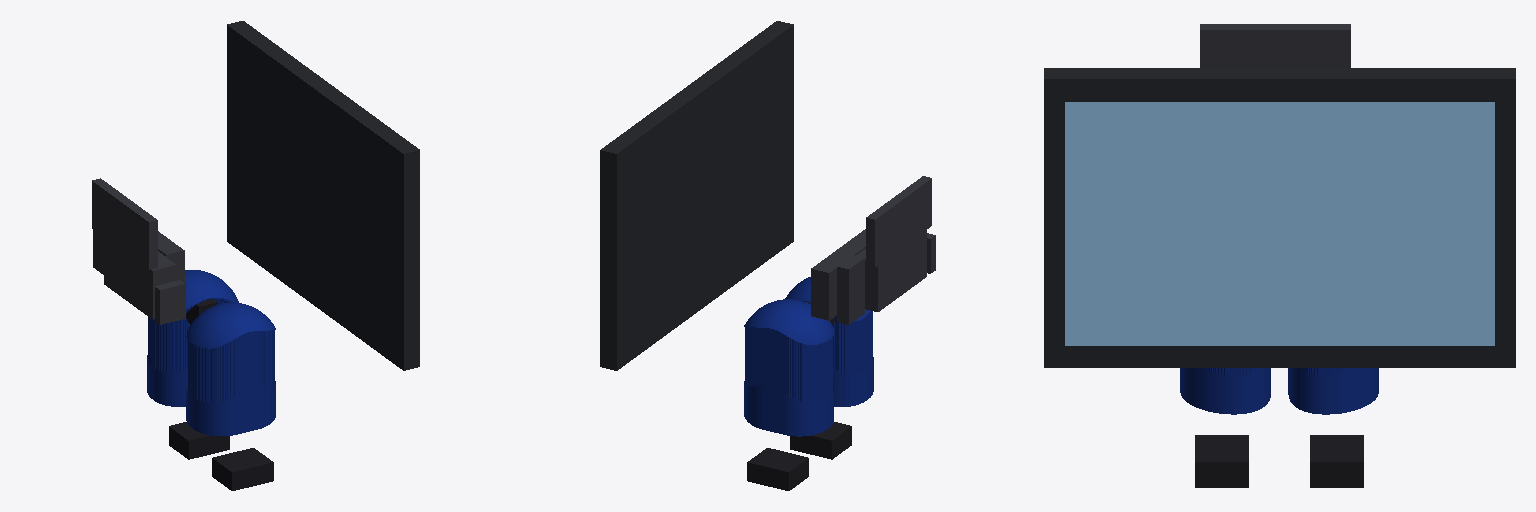
The robot description file, URDF, robot "haetburi":
<?xml version="1.0"?>
<!-- Haetburi biped (v21_sts3032_lite) - generated by tools/build_model.py, do not edit by hand -->
<robot name="haetburi">
  <mujoco>
    <compiler meshdir="." balanceinertia="true" discardvisual="false" strippath="false" fusestatic="false"/>
  </mujoco>
  <material name="display"><color rgba="0.18 0.19 0.21 1"/></material>
  <material name="screen"><color rgba="0.62 0.80 0.95 1"/></material>
  <material name="shell"><color rgba="0.106 0.216 0.541 1"/></material>
  <material name="motor"><color rgba="0.15 0.15 0.17 1"/></material>
  <material name="foot"><color rgba="0.25 0.25 0.28 1"/></material>
  <link name="world"/>
  <joint name="floating_base" type="floating">
    <parent link="world"/><child link="pelvis"/>
    <origin xyz="0 0 0" rpy="0 0 0"/>
  </joint>
  <link name="pelvis">
    <inertial>
      <origin xyz="-0.00931038 0.000514553 0.0382518" rpy="0 0 0"/>
      <mass value="0.378024"/>
      <inertia ixx="0.000431883" ixy="-4.27969e-06" ixz="0.000176369" iyy="0.00049327" iyz="-6.56762e-06" izz="0.000471962"/>
    </inertial>
    <visual><origin xyz="0 0 0" rpy="0 0 0"/><geometry><mesh filename="meshes/pelvis.stl"/></geometry><material name="shell"/></visual>
    <visual><origin xyz="0.00500246 0.0183704 0.0215" rpy="0 0 0"/><geometry><box size="0.012 0.0275 0.023"/></geometry><material name="motor"/></visual>
    <visual><origin xyz="0.00499754 -0.0181526 0.0195" rpy="0 0 0"/><geometry><box size="0.012 0.0275 0.023"/></geometry><material name="motor"/></visual>
    <visual><origin xyz="-0.04564 -0.00588 0.068" rpy="0 0 0"/><geometry><box size="0.016 0.056 0.031"/></geometry><material name="foot"/></visual>
    <visual><origin xyz="-0.02964 0.01412 0.068" rpy="0 0 0"/><geometry><box size="0.012 0.065 0.03"/></geometry><material name="foot"/></visual>
    <visual><origin xyz="-0.05364 -0.00188 0.1" rpy="0 0 0"/><geometry><box size="0.006 0.065 0.03"/></geometry><material name="foot"/></visual>
    <visual><origin xyz="-0.04364 0.03612 0.07" rpy="0 0 0"/><geometry><box size="0.008 0.018 0.035"/></geometry><material name="foot"/></visual>
    <visual><origin xyz="-0.04564 -0.03988 0.064" rpy="0 0 0"/><geometry><box size="0.017 0.006 0.022"/></geometry><material name="foot"/></visual>
    <collision><origin xyz="0.00697563 -0.000136661 0.0314" rpy="0 0 0"/><geometry><box size="0.0836344 0.111062 0.0348"/></geometry></collision>
  </link>
  <link name="torso">
    <inertial>
      <origin xyz="0.00945432 9.76661e-05 0.121951" rpy="0 0 0"/>
      <mass value="1.28151"/>
      <inertia ixx="0.0176312" ixy="-5.04571e-05" ixz="0.00209004" iyy="0.017212" iyz="-4.96454e-05" izz="0.00964357"/>
    </inertial>
    <visual><origin xyz="0 0 0" rpy="0 0 0"/><geometry><mesh filename="meshes/torso.stl"/></geometry><material name="shell"/></visual>
    <visual><origin xyz="0.0784825 0 0.0374296" rpy="0 0 0"/><geometry><box size="0.01104 0.20208 0.136608"/></geometry><material name="display"/></visual>
    <visual><origin xyz="0.0840025 0 0.0374296" rpy="0 0 0"/><geometry><box size="0.0004 0.18432 0.1152"/></geometry><material name="screen"/></visual>
    <collision><origin xyz="-0.036439 -1.6963e-06 0.0268832" rpy="0 0 0"/><geometry><box size="0.17104 0.115978 0.114213"/></geometry></collision>
    <collision><origin xyz="0.044496 0.0898351 0.0541718" rpy="0 0 0"/><geometry><sphere radius="0.0649829"/></geometry></collision>
    <collision><origin xyz="0.0448036 -0.0899729 0.0541718" rpy="0 0 0"/><geometry><sphere radius="0.0649205"/></geometry></collision>
    <collision><origin xyz="-0.005585 0.000285622 0.109669" rpy="0 0 0"/><geometry><sphere radius="0.111459"/></geometry></collision>
    <collision><origin xyz="-0.00973205 -0.000131314 0.160993" rpy="0 0 0"/><geometry><sphere radius="0.12859"/></geometry></collision>
    <collision><origin xyz="-0.0148192 -0.00021673 0.212326" rpy="0 0 0"/><geometry><sphere radius="0.127101"/></geometry></collision>
    <collision><origin xyz="-0.0116256 0.000915539 0.263656" rpy="0 0 0"/><geometry><sphere radius="0.110519"/></geometry></collision>
    <collision><origin xyz="-0.00687921 0.00724674 0.315018" rpy="0 0 0"/><geometry><sphere radius="0.0787743"/></geometry></collision>
    <collision><origin xyz="-0.0126071 -0.00239521 0.366334" rpy="0 0 0"/><geometry><sphere radius="0.0457151"/></geometry></collision>
    <collision><origin xyz="0.0784825 0 0.0374296" rpy="0 0 0"/><geometry><box size="0.01104 0.20208 0.136608"/></geometry></collision>
  </link>
  <link name="leg_l">
    <inertial>
      <origin xyz="-0.00121044 0.00411954 -0.0254884" rpy="0 0 0"/>
      <mass value="0.105613"/>
      <inertia ixx="6.46289e-05" ixy="3.43516e-07" ixz="-1.68704e-06" iyy="6.54429e-05" iyz="1.01013e-07" izz="2.56034e-05"/>
    </inertial>
    <visual><origin xyz="0 0 0" rpy="0 0 0"/><geometry><mesh filename="meshes/leg_l.stl"/></geometry><material name="shell"/></visual>
    <visual><origin xyz="0.000469506 0.0035 -0.0285" rpy="0 0 0"/><geometry><box size="0.012 0.0275 0.023"/></geometry><material name="motor"/></visual>
    <collision><origin xyz="0.000868299 0.00465604 -0.00771158" rpy="0 0 0"/><geometry><box size="0.0540024 0.0387917 0.0725768"/></geometry></collision>
  </link>
  <link name="ankle_l">
    <inertial>
      <origin xyz="0.00269784 -0.00146438 -0.0212" rpy="0 0 0"/>
      <mass value="0.0218531"/>
      <inertia ixx="6.18765e-06" ixy="0" ixz="0" iyy="4.00233e-06" iyz="0" izz="3.64219e-06"/>
    </inertial>
  </link>
  <link name="foot_l">
    <inertial>
      <origin xyz="0.000512288 0.00462479 -0.000920763" rpy="0 0 0"/>
      <mass value="0.0867579"/>
      <inertia ixx="1.73764e-05" ixy="-8.62792e-07" ixz="-2.11128e-07" iyy="2.63174e-05" iyz="-7.80465e-07" izz="3.05848e-05"/>
    </inertial>
    <visual><origin xyz="0 0 0" rpy="0 0 0"/><geometry><mesh filename="meshes/foot_l.stl"/></geometry><material name="shell"/></visual>
    <visual><origin xyz="0 0.0055 4.44089e-19" rpy="0 0 0"/><geometry><box size="0.0275 0.023 0.012"/></geometry><material name="motor"/></visual>
    <collision><origin xyz="0 0 0" rpy="0 0 0"/><geometry><mesh filename="meshes/foot_l.stl"/></geometry></collision>
  </link>
  <link name="leg_r">
    <inertial>
      <origin xyz="-0.0011744 -0.00455901 -0.0239097" rpy="0 0 0"/>
      <mass value="0.104922"/>
      <inertia ixx="6.13086e-05" ixy="-3.38764e-07" ixz="-1.64904e-06" iyy="6.20955e-05" iyz="-1.04851e-07" izz="2.52478e-05"/>
    </inertial>
    <visual><origin xyz="0 0 0" rpy="0 0 0"/><geometry><mesh filename="meshes/leg_r.stl"/></geometry><material name="shell"/></visual>
    <visual><origin xyz="0.000658214 -0.0038 -0.0265" rpy="0 0 0"/><geometry><box size="0.012 0.0275 0.023"/></geometry><material name="motor"/></visual>
    <collision><origin xyz="0.000869145 -0.00514726 -0.00676803" rpy="0 0 0"/><geometry><box size="0.0539781 0.0388443 0.0704639"/></geometry></collision>
  </link>
  <link name="ankle_r">
    <inertial>
      <origin xyz="0.00265946 0.00125788 -0.0212" rpy="0 0 0"/>
      <mass value="0.0218531"/>
      <inertia ixx="6.18765e-06" ixy="0" ixz="0" iyy="4.00233e-06" iyz="0" izz="3.64219e-06"/>
    </inertial>
  </link>
  <link name="foot_r">
    <inertial>
      <origin xyz="0.00040167 -0.00452023 -0.000959733" rpy="0 0 0"/>
      <mass value="0.0865718"/>
      <inertia ixx="1.7241e-05" ixy="8.98297e-07" ixz="-1.46734e-07" iyy="2.61841e-05" iyz="7.6138e-07" izz="3.04562e-05"/>
    </inertial>
    <visual><origin xyz="0 0 0" rpy="0 0 0"/><geometry><mesh filename="meshes/foot_r.stl"/></geometry><material name="shell"/></visual>
    <visual><origin xyz="0 -0.0055 4.44089e-19" rpy="0 0 0"/><geometry><box size="0.0275 0.023 0.012"/></geometry><material name="motor"/></visual>
    <collision><origin xyz="0 0 0" rpy="0 0 0"/><geometry><mesh filename="meshes/foot_r.stl"/></geometry></collision>
  </link>
  <joint name="waist_fixed" type="fixed">
    <parent link="pelvis"/><child link="torso"/>
    <origin xyz="0 0 0.0488" rpy="0 0 0"/>
  </joint>
  <joint name="hip_pitch_l" type="revolute">
    <parent link="pelvis"/><child link="leg_l"/>
    <origin xyz="0.00500246 0.0183704 0.016" rpy="0 0 0"/>
    <axis xyz="0 1 0"/>
    <limit lower="-0.506145" upper="0.436332" effort="0.44" velocity="11.6"/>
    <dynamics damping="0.03142857142857144" friction="0.012571428571428574"/>
  </joint>
  <joint name="hip_pitch_r" type="revolute">
    <parent link="pelvis"/><child link="leg_r"/>
    <origin xyz="0.00499754 -0.0181526 0.014" rpy="0 0 0"/>
    <axis xyz="0 1 0"/>
    <limit lower="-0.506145" upper="0.436332" effort="0.44" velocity="11.6"/>
    <dynamics damping="0.03142857142857144" friction="0.012571428571428574"/>
  </joint>
  <joint name="ankle_pitch_l" type="revolute">
    <parent link="leg_l"/><child link="ankle_l"/>
    <origin xyz="0.000469506 0.0035 -0.034" rpy="0 0 0"/>
    <axis xyz="0 1 0"/>
    <limit lower="-0.261799" upper="0.261799" effort="0.44" velocity="11.6"/>
    <dynamics damping="0.03142857142857144" friction="0.012571428571428574"/>
  </joint>
  <joint name="ankle_pitch_r" type="revolute">
    <parent link="leg_r"/><child link="ankle_r"/>
    <origin xyz="0.000658214 -0.0038 -0.032" rpy="0 0 0"/>
    <axis xyz="0 1 0"/>
    <limit lower="-0.261799" upper="0.261799" effort="0.44" velocity="11.6"/>
    <dynamics damping="0.03142857142857144" friction="0.012571428571428574"/>
  </joint>
  <joint name="ankle_roll_l" type="revolute">
    <parent link="ankle_l"/><child link="foot_l"/>
    <origin xyz="0.00539569 -0.00292877 -0.0424" rpy="0 0 0"/>
    <axis xyz="1 0 0"/>
    <limit lower="-0.261799" upper="0.261799" effort="0.44" velocity="11.6"/>
    <dynamics damping="0.03142857142857144" friction="0.012571428571428574"/>
  </joint>
  <joint name="ankle_roll_r" type="revolute">
    <parent link="ankle_r"/><child link="foot_r"/>
    <origin xyz="0.00531892 0.00251576 -0.0424" rpy="0 0 0"/>
    <axis xyz="1 0 0"/>
    <limit lower="-0.261799" upper="0.261799" effort="0.44" velocity="11.6"/>
    <dynamics damping="0.03142857142857144" friction="0.012571428571428574"/>
  </joint>
</robot>

--- What the picture shows (computed from the rendered views, not written in the file) ---
The picture shows the robot from 3 angles, left to right: view 1: azimuth 30°, elevation 25°; view 2: azimuth 150°, elevation 25°; view 3: azimuth 270°, elevation 25°; orthographic projection.
Model haetburi with 9 links and 8 joints (6 revolute, 1 fixed, 1 floating), rooted at world, posed every joint at zero.
Visible links, largest first — view 1: torso, leg_r, pelvis, leg_l, foot_r, foot_l; view 2: torso, leg_l, pelvis, leg_r, foot_l, foot_r; view 3: torso, pelvis, leg_l, leg_r, foot_l, foot_r.
Boxes of the visible links, x1,y1,x2,y2 form: torso: [227, 21, 419, 370]; leg_r: [186, 303, 275, 435]; pelvis: [92, 178, 216, 324]; leg_l: [147, 270, 238, 406]; foot_r: [212, 448, 273, 490]; foot_l: [169, 422, 229, 459]; torso: [600, 21, 793, 370]; leg_l: [744, 299, 833, 436]; pelvis: [808, 176, 935, 324]; leg_r: [785, 277, 873, 406]; foot_l: [747, 448, 808, 490]; foot_r: [790, 422, 851, 459]; torso: [1044, 68, 1515, 367]; pelvis: [1200, 24, 1350, 67]; leg_l: [1288, 368, 1378, 414]; leg_r: [1180, 368, 1270, 414]; foot_l: [1310, 435, 1363, 487]; foot_r: [1195, 435, 1248, 487].
Bounding box of the posed robot: 0.1408 × 0.2021 × 0.2209 m (x, y, z).
2 mesh visuals loaded from 6 distinct referenced files (2 binary STL); not drawn: 4 (reference not matched to a file when rendering).
